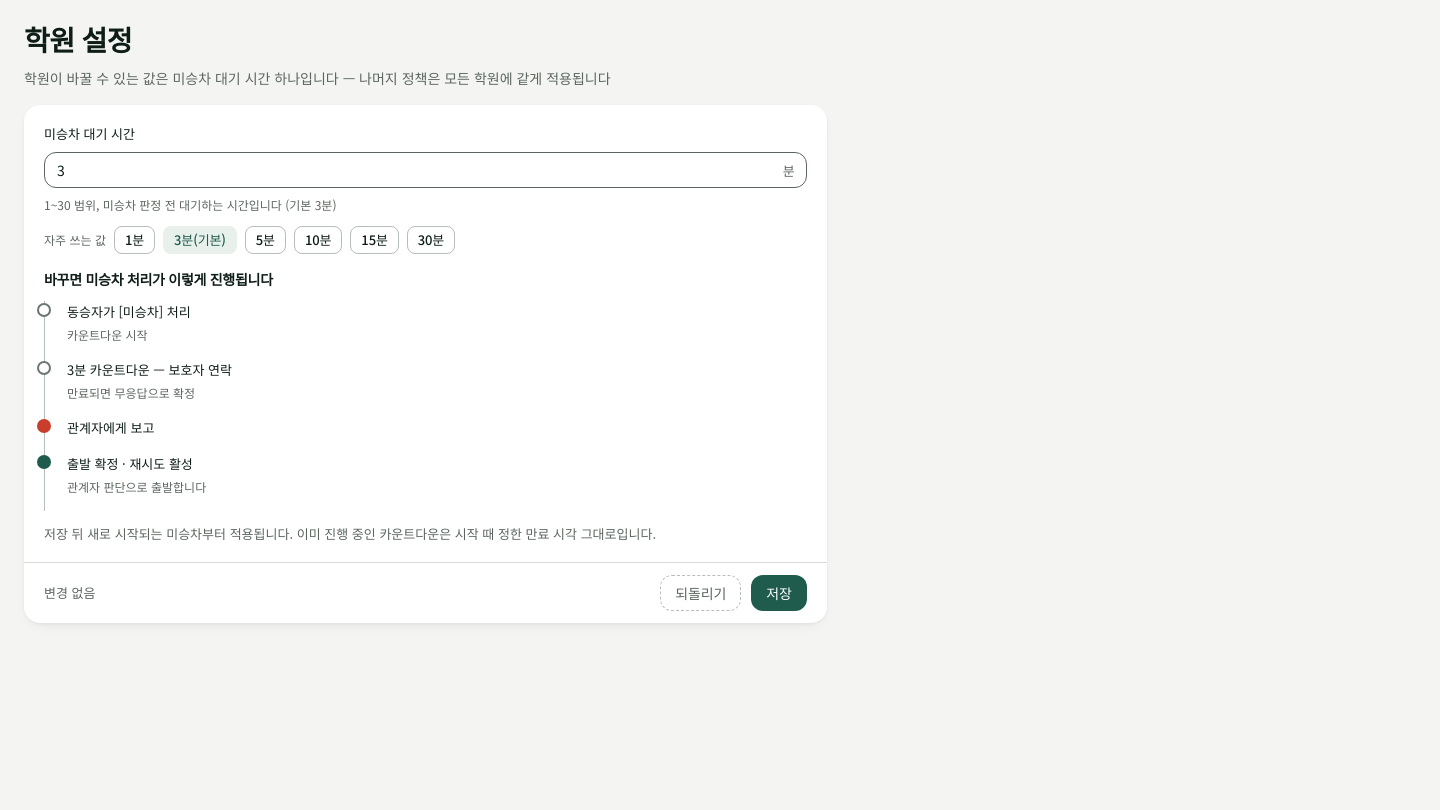
Scenario: AcademySettingsForm — 이탈 경고 › 저장하고 나면 다시 묻지 않는다
Replace the text in the number field with "10". click: (425, 170)
box: [44,152,807,188]
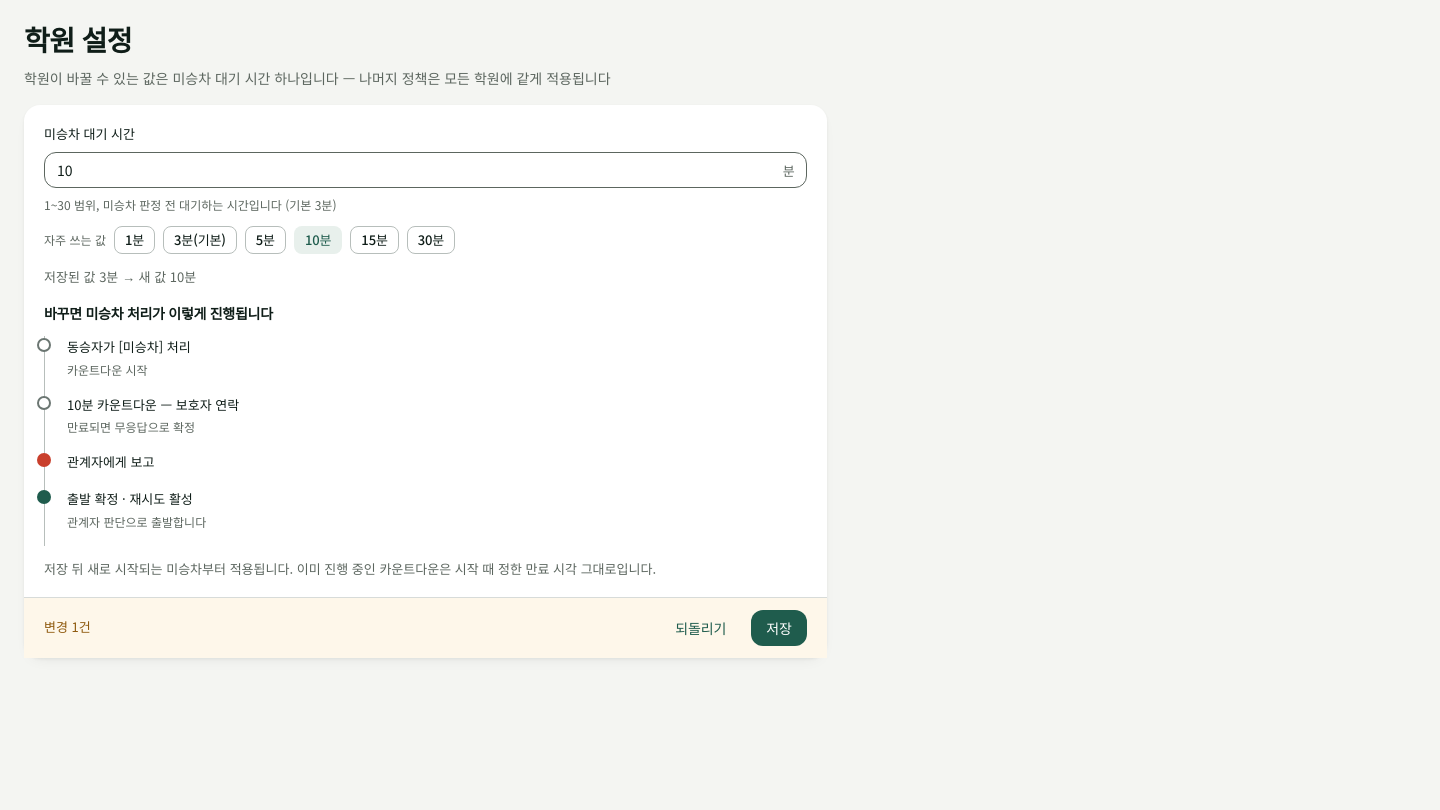
Click the button "저장". click: (779, 628)
box: [751,610,807,646]
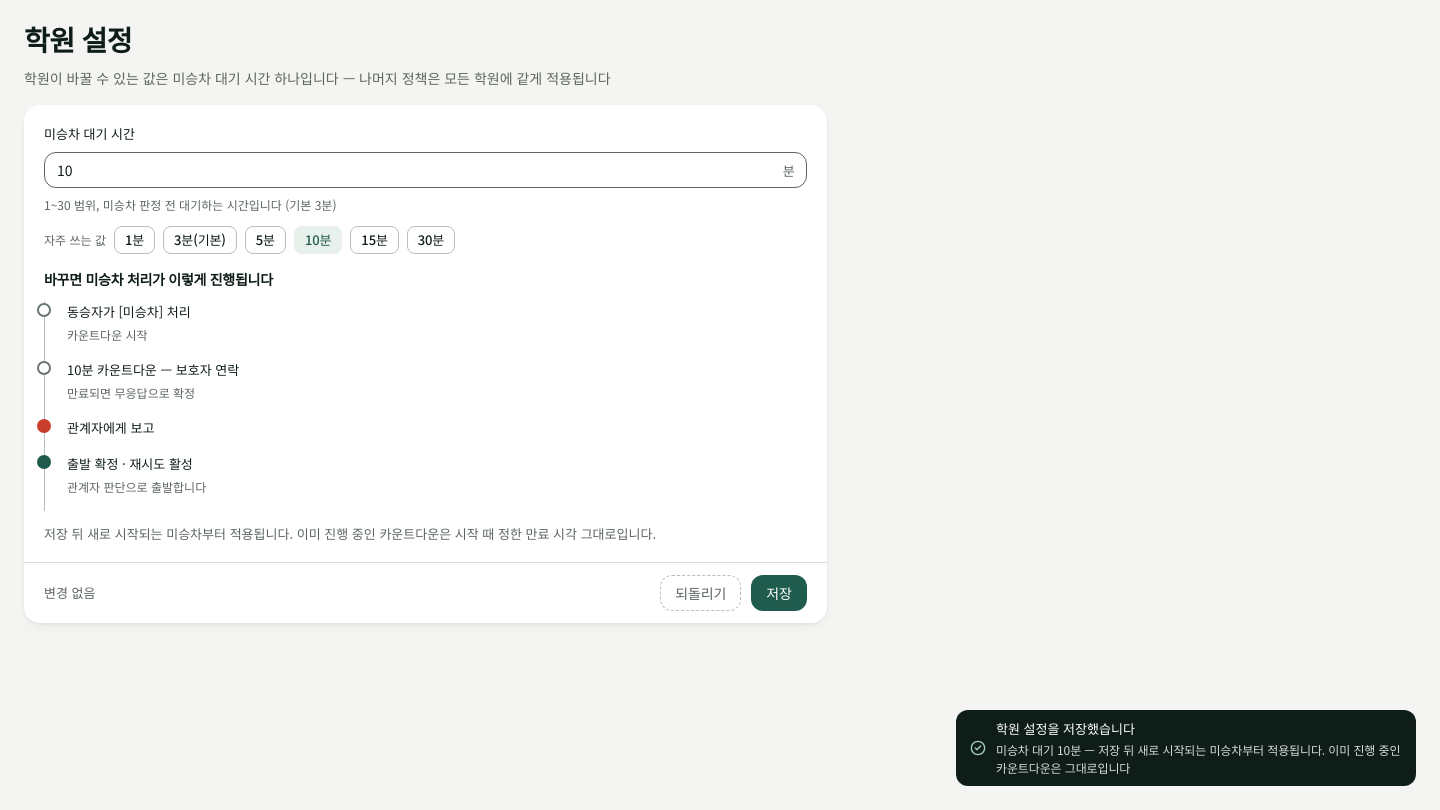
Expected: the text "학원 설정을 저장했습니다" is shown, [996,719,1135,738]
